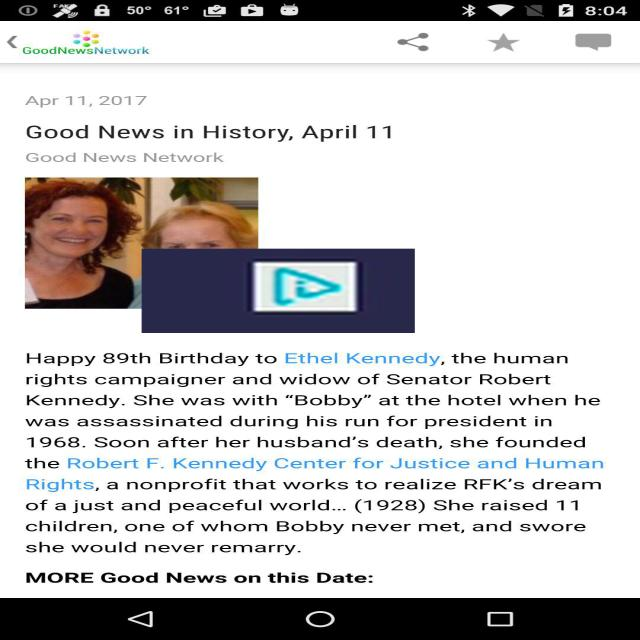sneaking: (142, 249, 414, 333)
